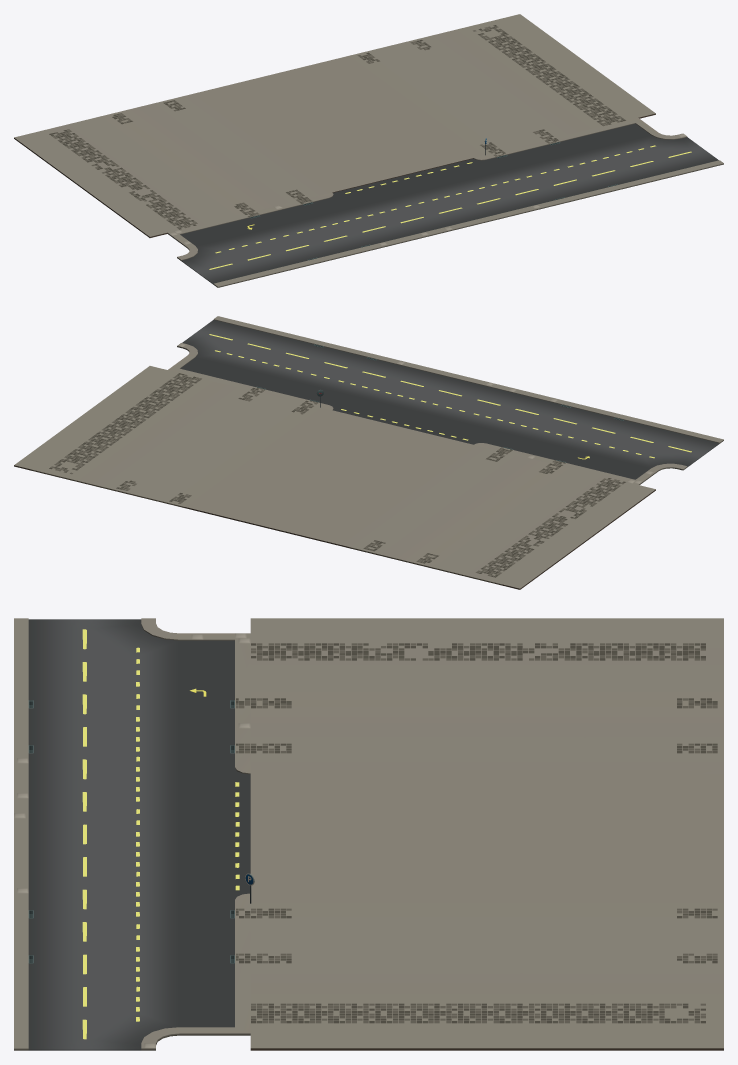
File: tp_airport_site.glb
3 renders of one model, top to bottom at view 1: azimuth 30°, elevation 25°; view 2: azimuth 150°, elevation 25°; view 3: azimuth 270°, elevation 25°, orthographic. The views are drawn at different scales.
Visible parts, largest first — view 1: Lot, Road; view 2: Lot, Road; view 3: Lot, Road.
Boxes of the visible parts, x1,y1,x2,y2 form: Lot: (14, 14, 655, 237); Road: (167, 118, 723, 287); Lot: (14, 366, 655, 589); Road: (168, 316, 723, 484); Lot: (250, 618, 723, 1050); Road: (14, 618, 254, 1050).
Bounding box in the file's own units: 86 × 3.08 × 60.
Materials: 2 (2 with a texture image).
